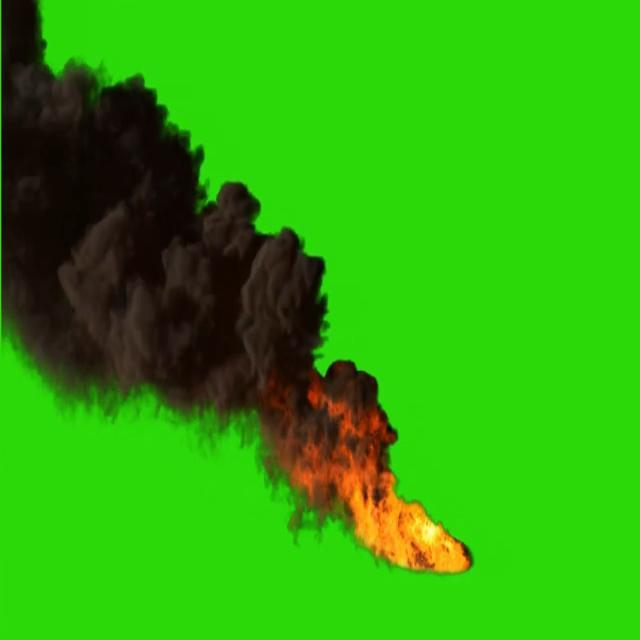Fire: (377, 499, 473, 576)
Smoke: (1, 4, 328, 462)
